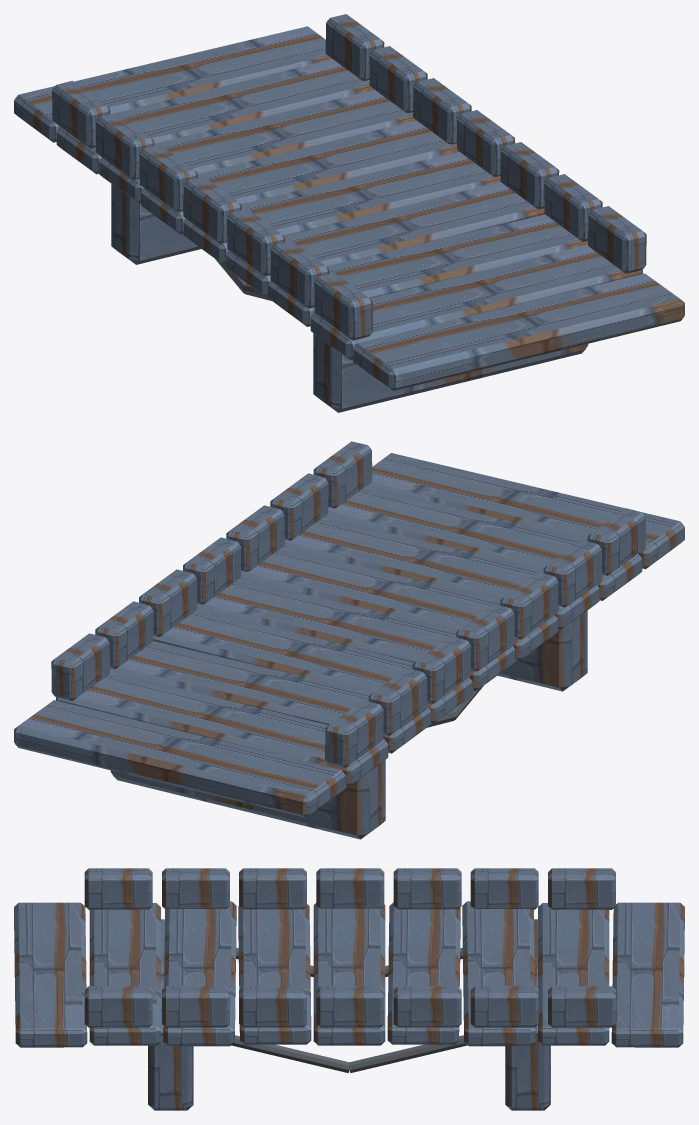
File: bridge_stone.glb
3 views of the same model, one above another, from view 1: azimuth 30°, elevation 25°; view 2: azimuth 150°, elevation 25°; view 3: azimuth 270°, elevation 25° (orthographic). The views are drawn at different scales.
Visible parts, largest first — view 1: landmark_bridge_stone; view 2: landmark_bridge_stone; view 3: landmark_bridge_stone.
Boxes of the visible parts, x1,y1,x2,y2 form: landmark_bridge_stone: (14, 14, 684, 412); landmark_bridge_stone: (14, 441, 684, 839); landmark_bridge_stone: (14, 868, 684, 1110).
Size of the model in its own units: 3.66 by 1.7 by 8.08.
2 materials, 1 textured.
